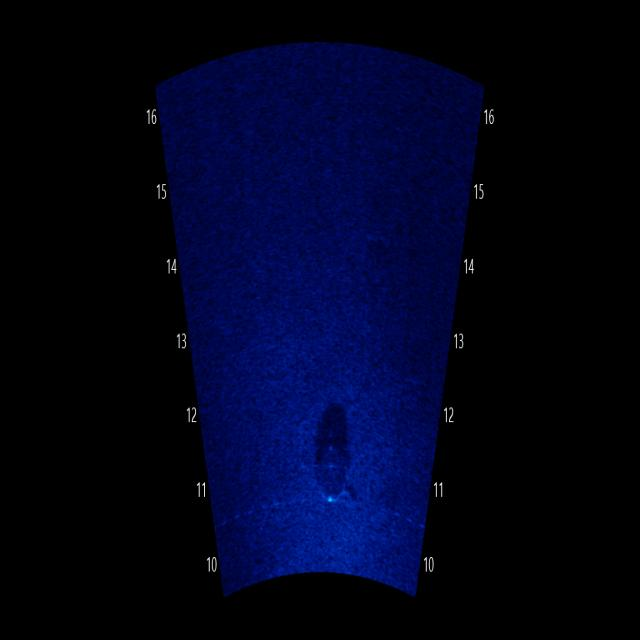circle: (308, 425, 365, 522)
